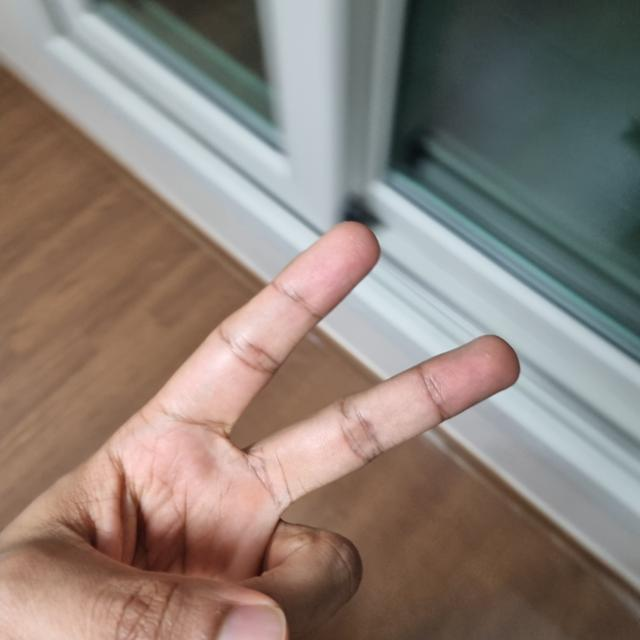Scissors: (0, 222, 622, 639)
